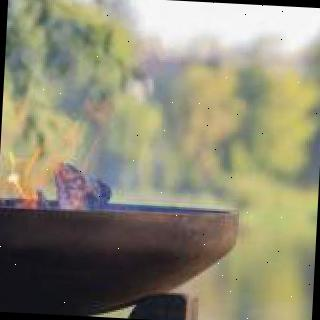fire: (0, 148, 84, 216)
